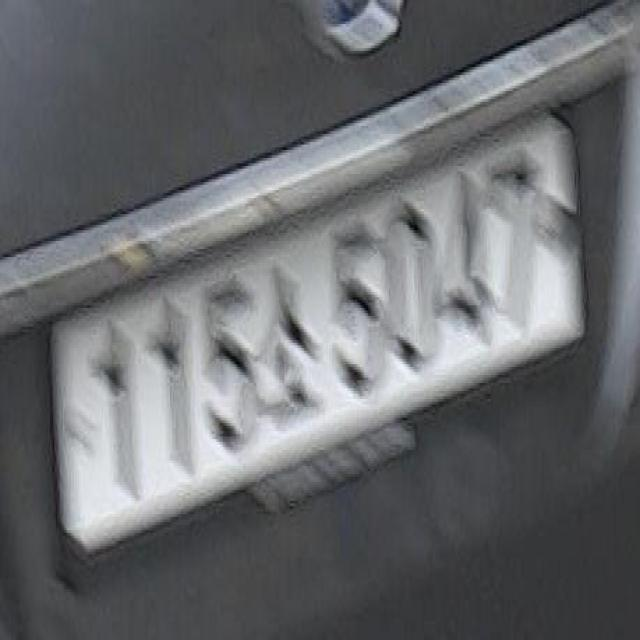illegal_plate: (48, 107, 588, 561)
